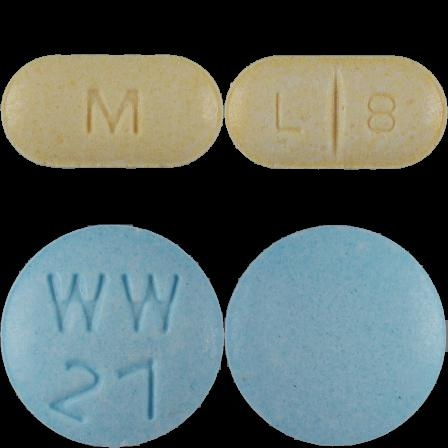54868-0805: (0, 0, 224, 224)
